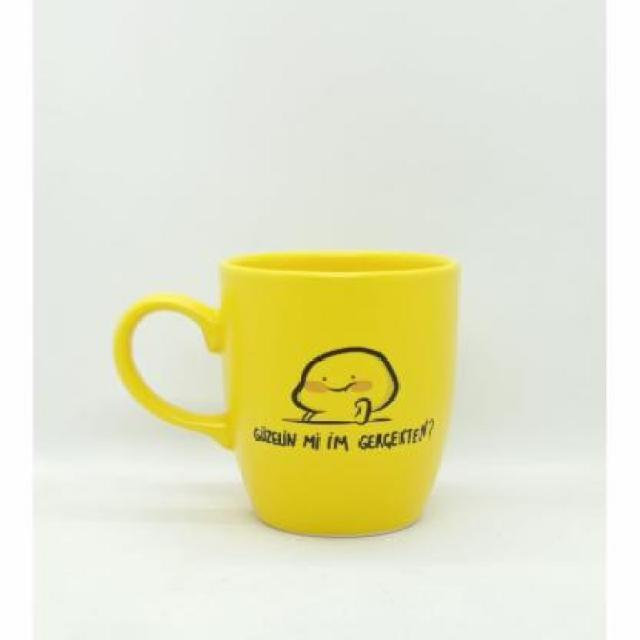taza: (104, 243, 464, 548)
